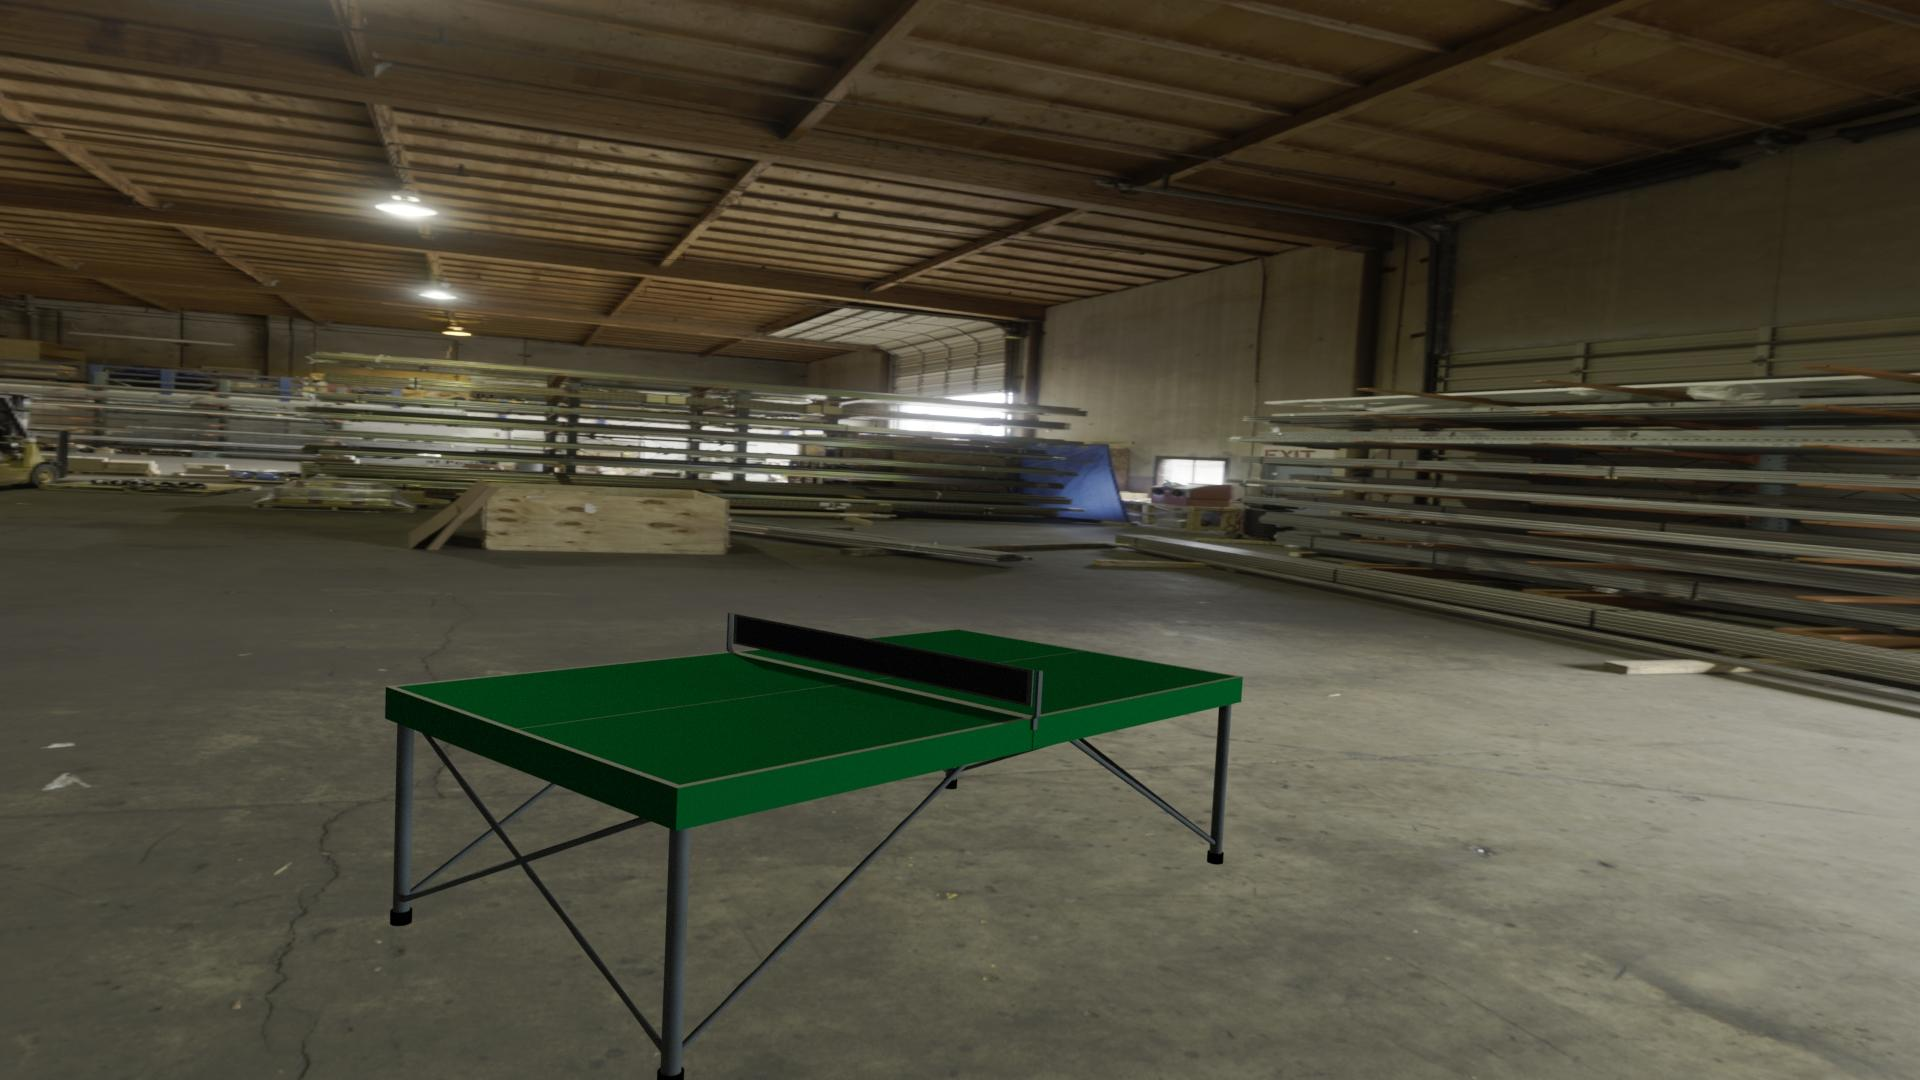table: (396, 629, 1236, 785)
